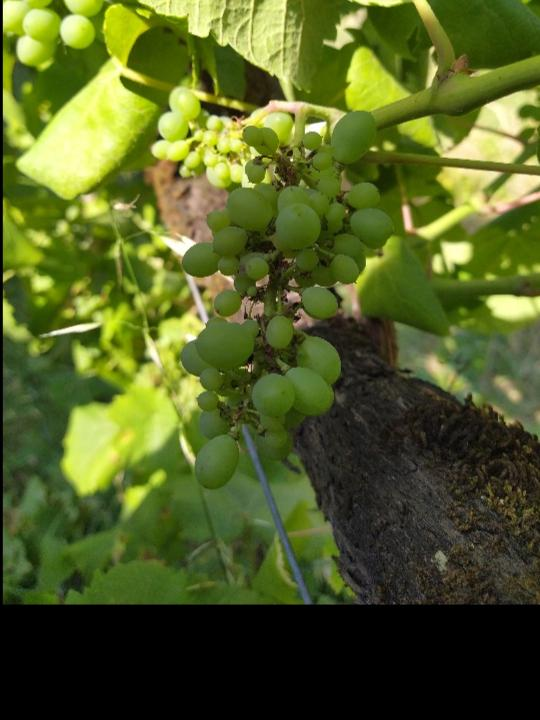grape: (175, 84, 397, 495), (146, 78, 250, 190)
